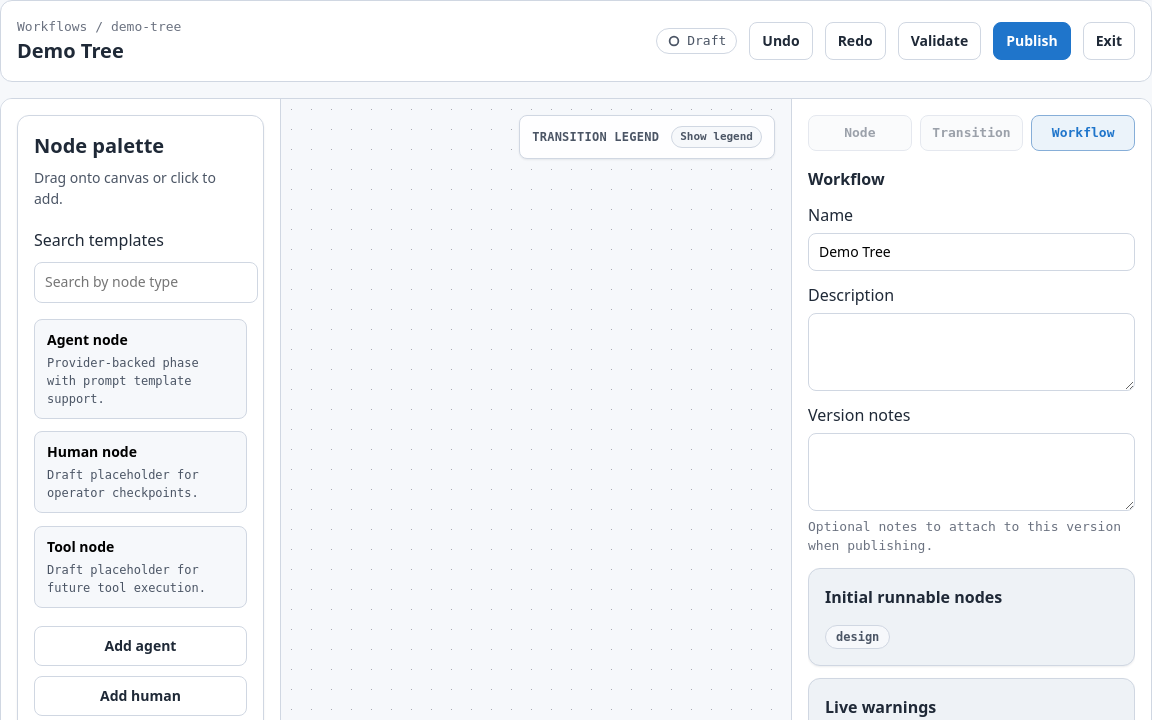
it: WorkflowEditorPageContent › renders a transition legend with success, failure, auto, and guard semantics
The width and height of the screenshot is (1152, 720).
Click the button "Show legend" at x=717, y=136, box [671,126,762,148]
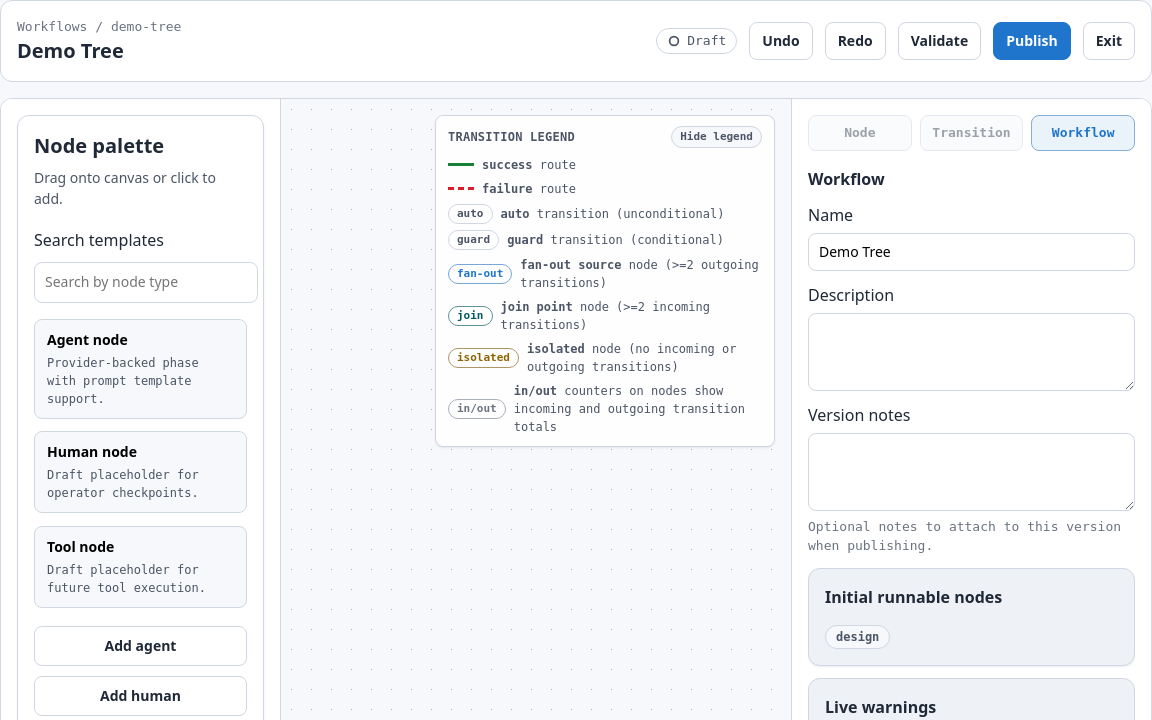
Now the text "success" is shown, box [482,158,533,172]
Now the text "failure" is shown, box [482,182,533,196]
Now the 1st text "auto" is shown, box [448,204,492,224]
